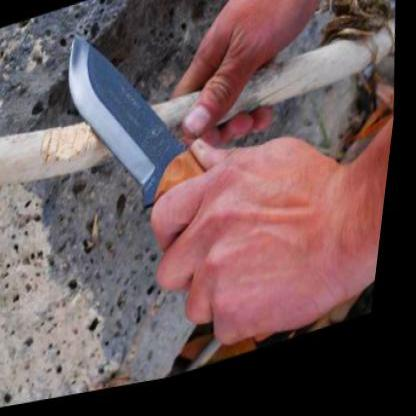knife: (28, 0, 249, 366)
